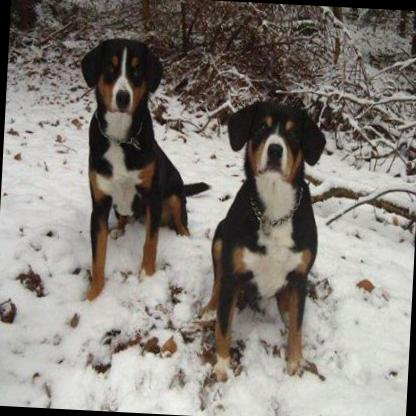EntleBucher: (68, 25, 218, 307), (194, 93, 328, 389)
